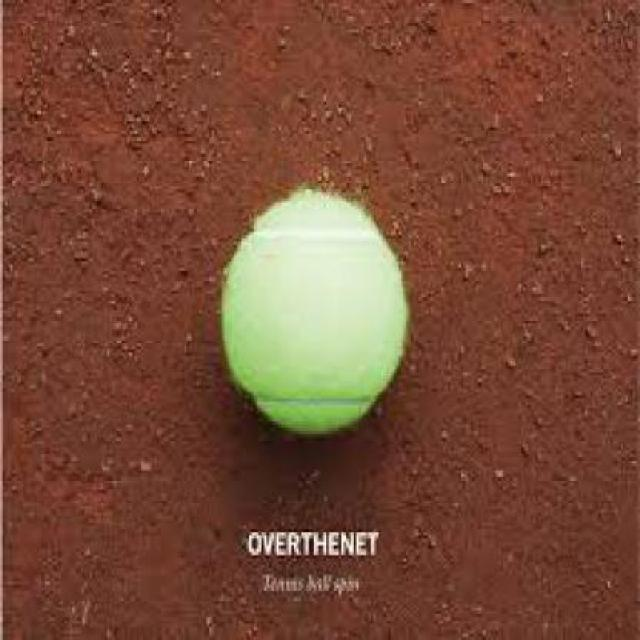Tennis_Ball: (223, 195, 406, 432)
